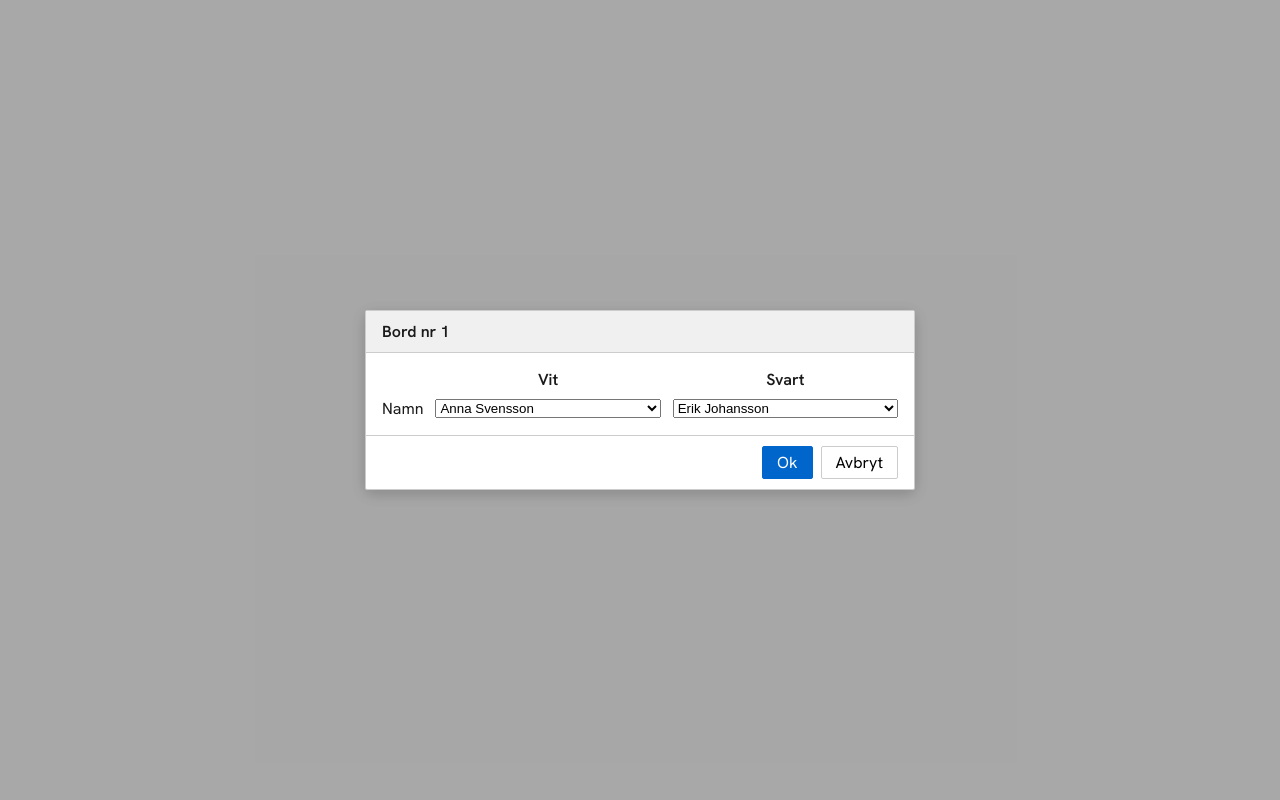
EditBoardDialog save error › shows inline error instead of alert when save fails
Step 1. Click the button "Ok" → (787, 462), box [762, 446, 813, 479]
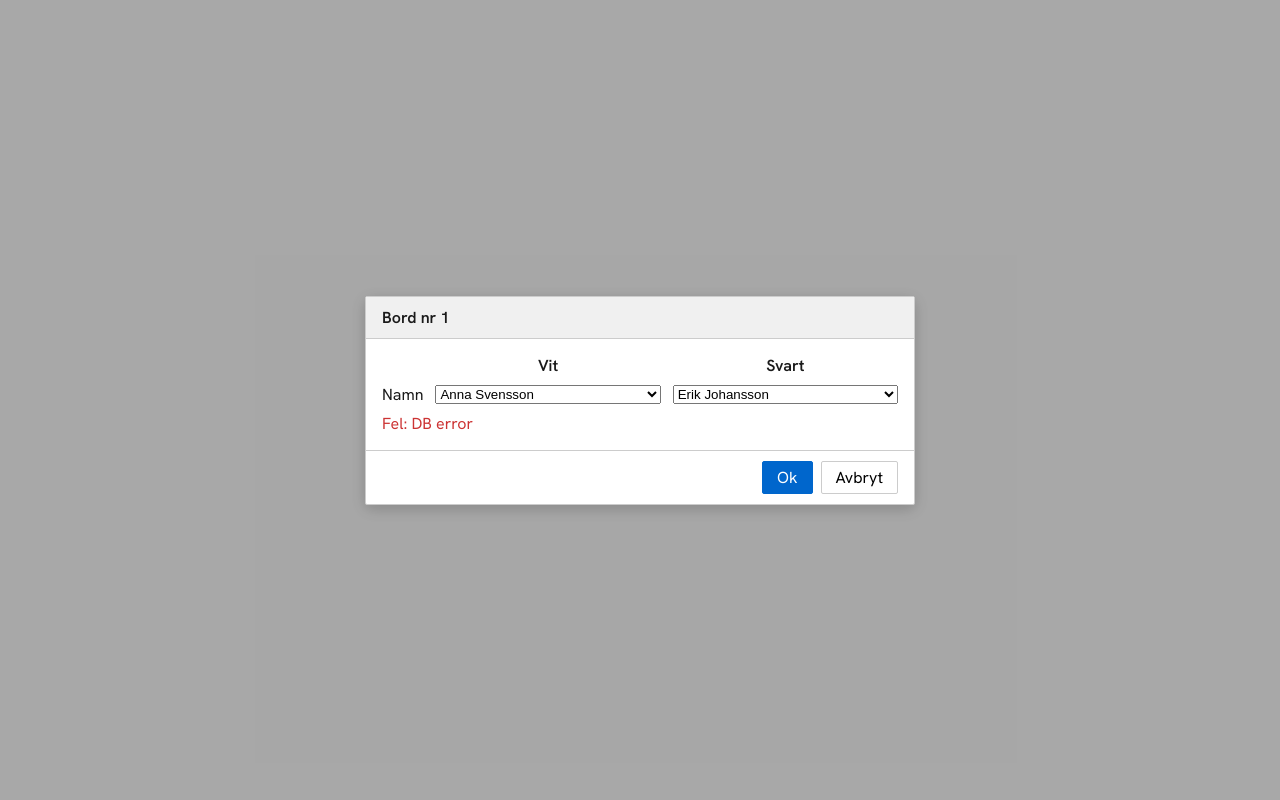
Check: the text with test id "save-error" shows "DB error", box [382, 412, 473, 434]
